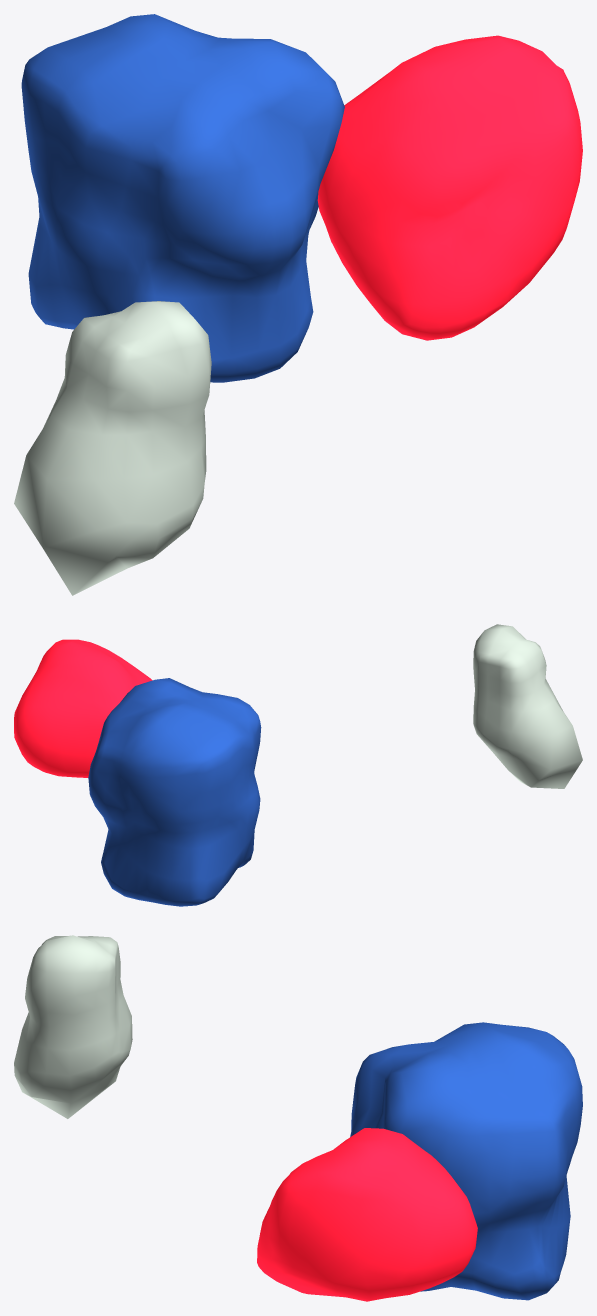
File: blobs.fbx
3 views of the same model, one above another, from view 1: azimuth 30°, elevation 25°; view 2: azimuth 150°, elevation 25°; view 3: azimuth 270°, elevation 25° (orthographic). The views are drawn at different scales.
Visible parts, largest first — view 1: Cube_blob; view 2: Cube_blob; view 3: Cube_blob.
Boxes of the visible parts, <box> form: Cube_blob: <box>14,14,582,595</box>; Cube_blob: <box>14,624,582,906</box>; Cube_blob: <box>14,935,582,1301</box>.
Size of the model in its own units: 10.12 by 4.23 by 9.07.
